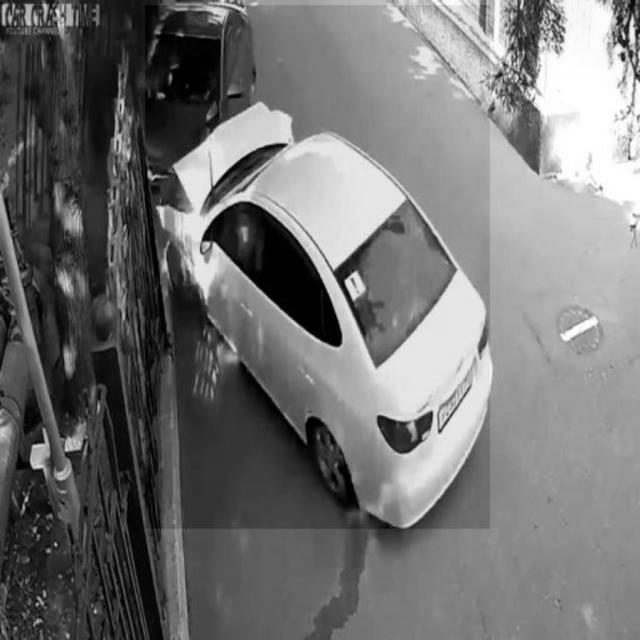accident: (146, 5, 491, 529)
